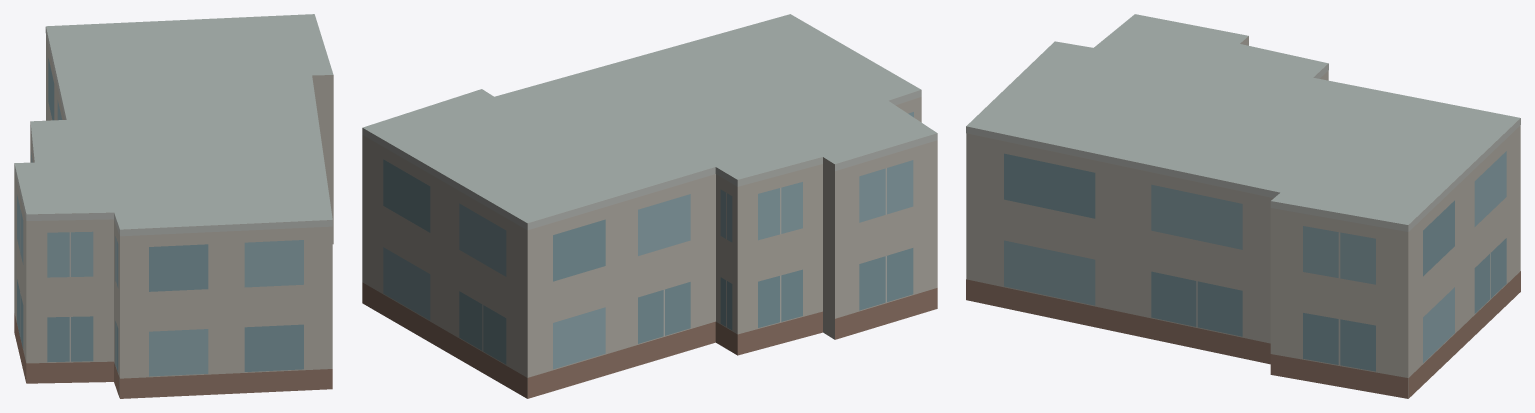
Rendered from survey-upis-33016335.glb.
3 renders of one model, left to right at view 1: azimuth 30°, elevation 25°; view 2: azimuth 150°, elevation 25°; view 3: azimuth 270°, elevation 25°, orthographic. The views are drawn at different scales.
Visible parts, largest first — view 1: survey-upis-33016335.tmp; view 2: survey-upis-33016335.tmp; view 3: survey-upis-33016335.tmp.
Boxes of the visible parts, x1,y1,x2,y2 form: survey-upis-33016335.tmp: (14, 14, 333, 398); survey-upis-33016335.tmp: (362, 14, 937, 398); survey-upis-33016335.tmp: (966, 14, 1520, 398).
Size of the model in its own units: 15.91 by 6.1 by 17.66.
